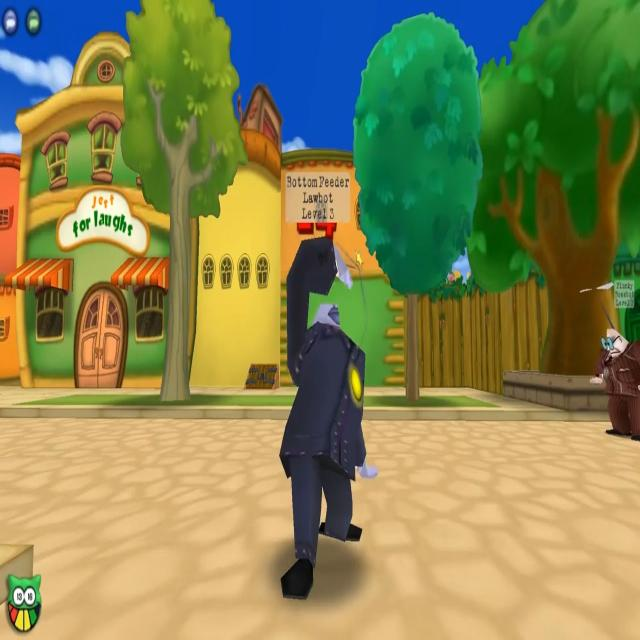bottomfeeder: (270, 164, 383, 604)
flunky: (588, 265, 640, 447)
